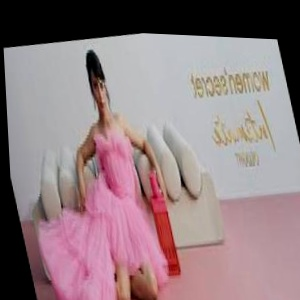women_secret: (118, 41, 300, 69)
